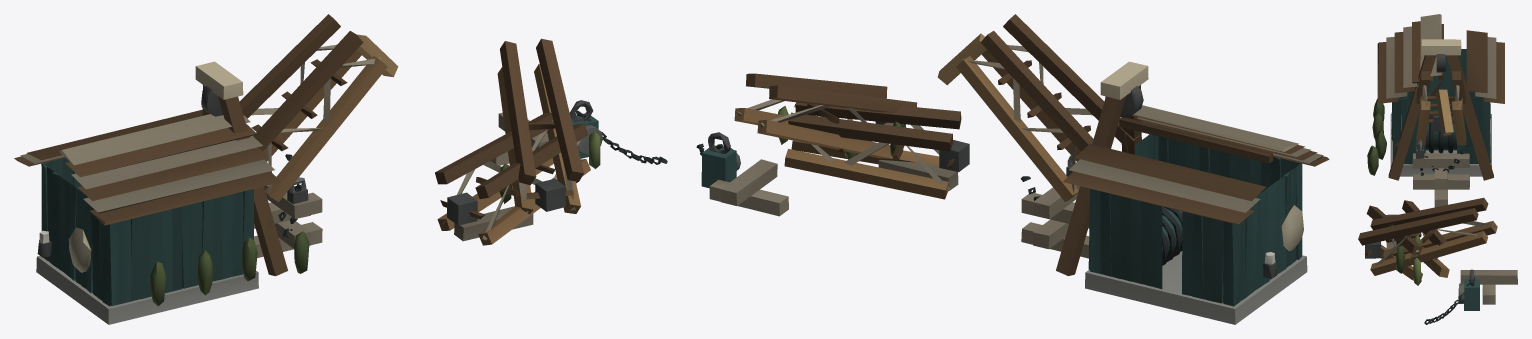
Rendered from boom_crane_wreck_c_lod2.glb.
3 renders of one model, left to right at view 1: azimuth 30°, elevation 25°; view 2: azimuth 150°, elevation 25°; view 3: azimuth 270°, elevation 25°, orthographic. The views are drawn at different scales.
Parts seen in each view (by area): view 1: Surface.001; view 2: Surface.001; view 3: Surface.001.
Part boxes in pixels (x1,y1,x2,y2): Surface.001: [14, 14, 667, 324]; Surface.001: [696, 14, 1329, 324]; Surface.001: [1358, 14, 1517, 324].
Size of the model in its own units: 14.34 by 4.76 by 4.67.
